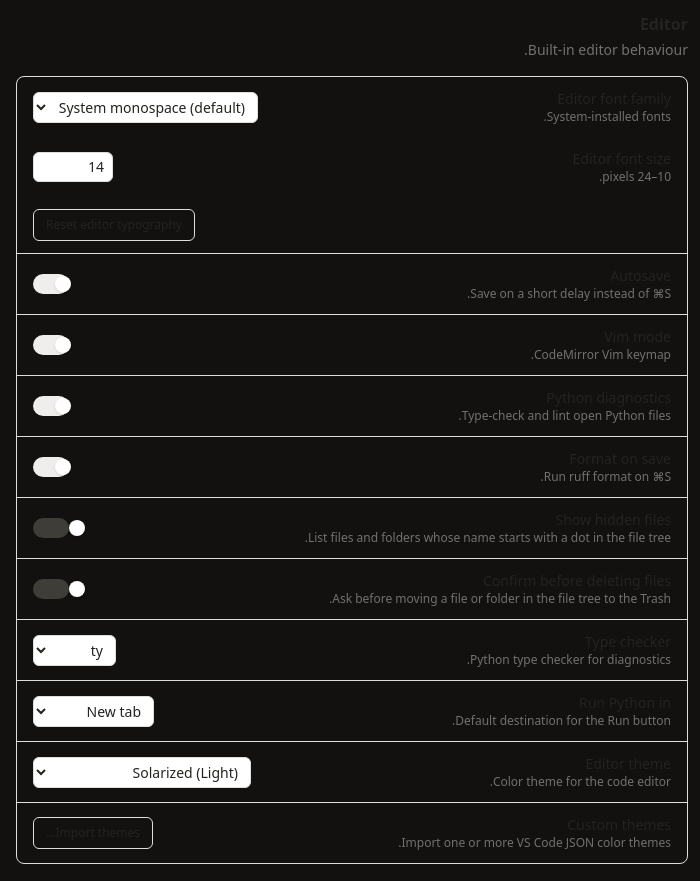
Test: Settings sections › Editor persists bounded global editor typography and resets it
Select "Avenir Next" in the dropdown with test id "settings-editor-font-family" at x=146, y=107, box [33,92,258,122]
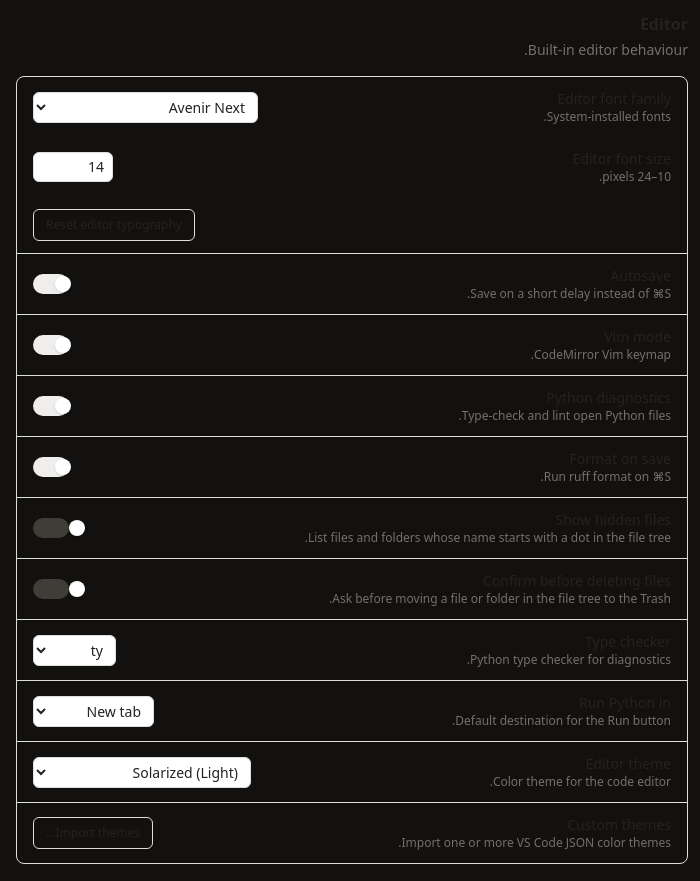
Replace the text in the number field with test id "settings-editor-font-size" with "999" at x=73, y=167, box [33,152,113,182]
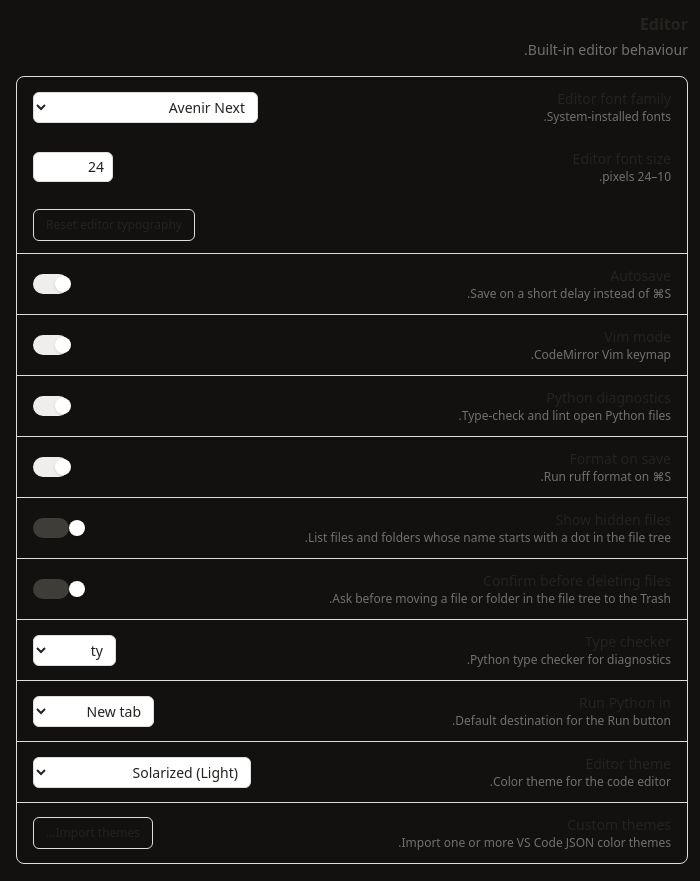
Click the button with test id "settings-editor-font-reset" at x=114, y=225, box [33,209,195,241]
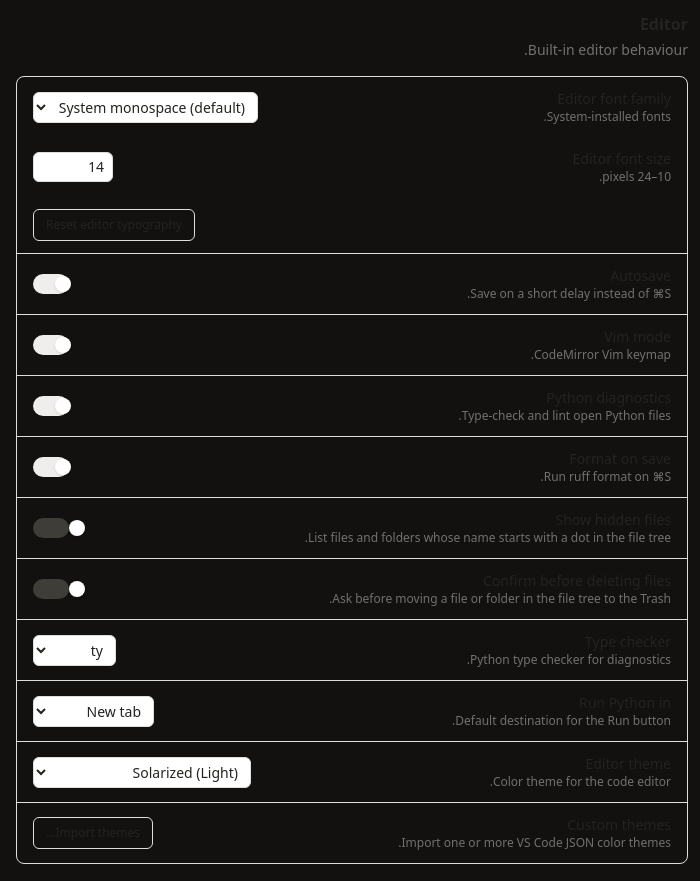
Now the number field with test id "settings-editor-font-size" holds "14", box [33,152,113,182]
